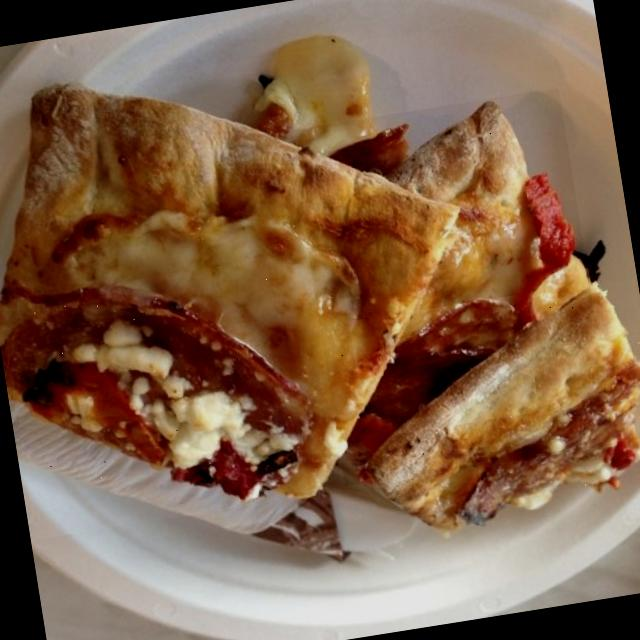pepperoni: (0, 257, 310, 539), (349, 294, 540, 439)
pizza: (0, 87, 459, 499), (342, 98, 589, 481), (371, 286, 640, 529)
